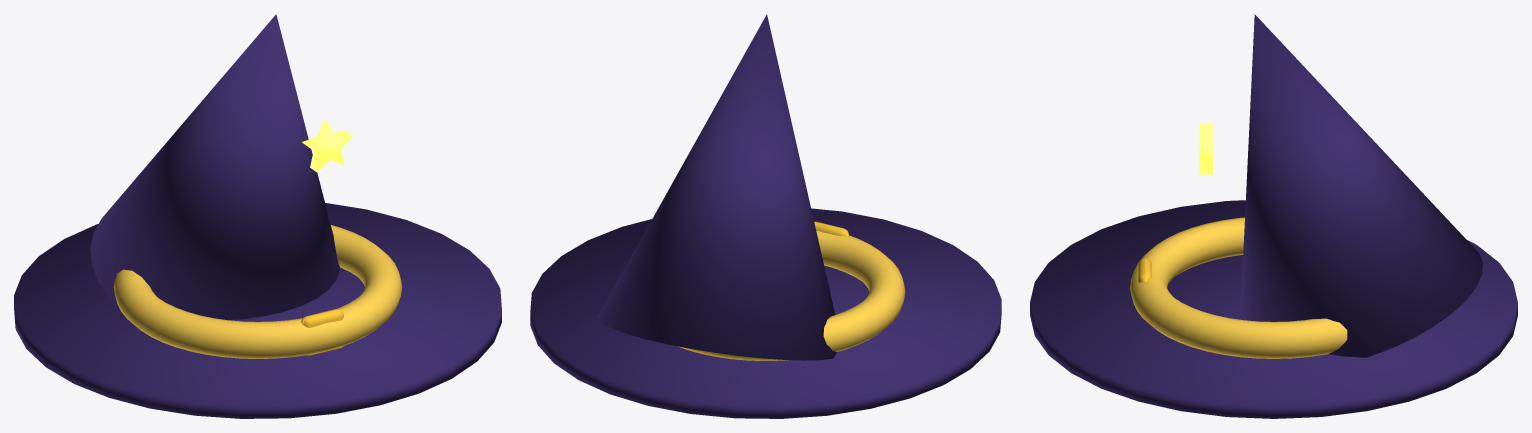
The model's file is witch-hat.glb.
3 renders of one model, left to right at view 1: azimuth 30°, elevation 25°; view 2: azimuth 150°, elevation 25°; view 3: azimuth 270°, elevation 25°, orthographic. The views are drawn at different scales.
Visible parts, largest first — view 1: witch-hat; view 2: witch-hat; view 3: witch-hat.
Boxes of the visible parts, left/top/right/bottom form: witch-hat: left=14, top=14, right=501, bottom=418; witch-hat: left=530, top=14, right=1001, bottom=418; witch-hat: left=1030, top=14, right=1517, bottom=418.
Bounding box in the file's own units: 1.44 × 1.07 × 1.44.
